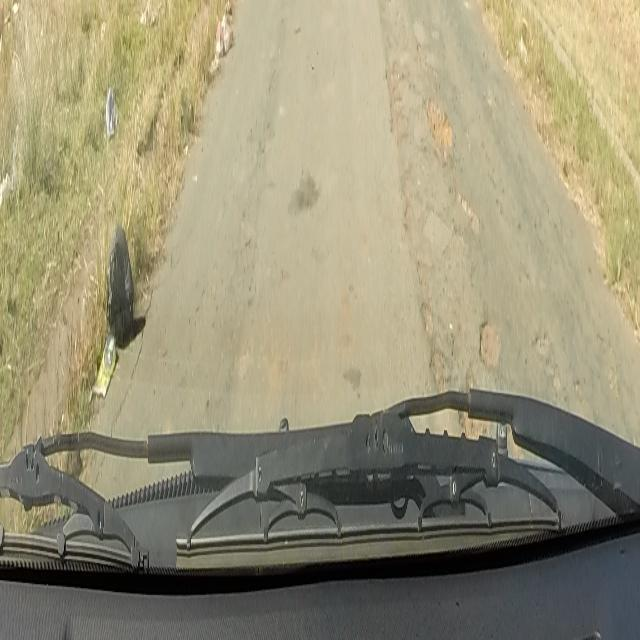pothole: (389, 70, 507, 391)
